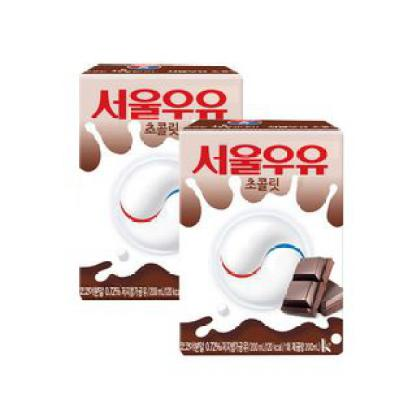tetra: (159, 103, 357, 372)
